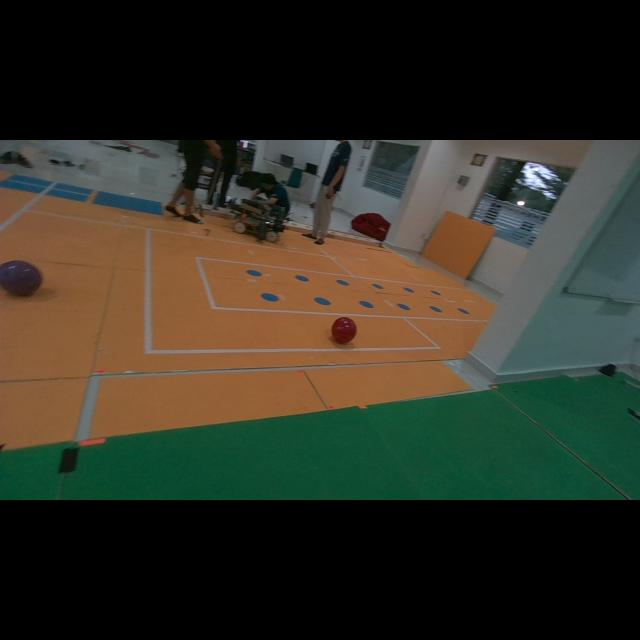P: (0, 260, 42, 296)
R: (331, 318, 356, 343)
